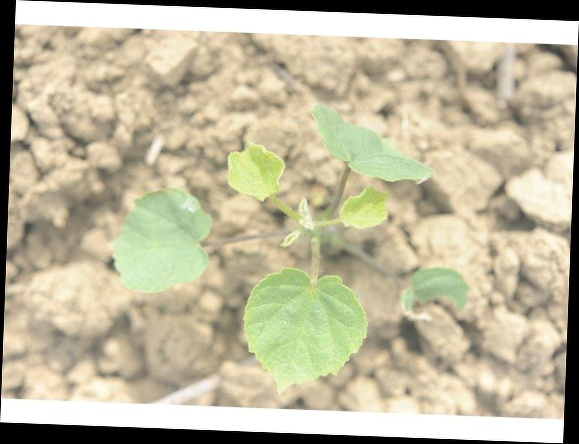velvet: (112, 107, 473, 390)
